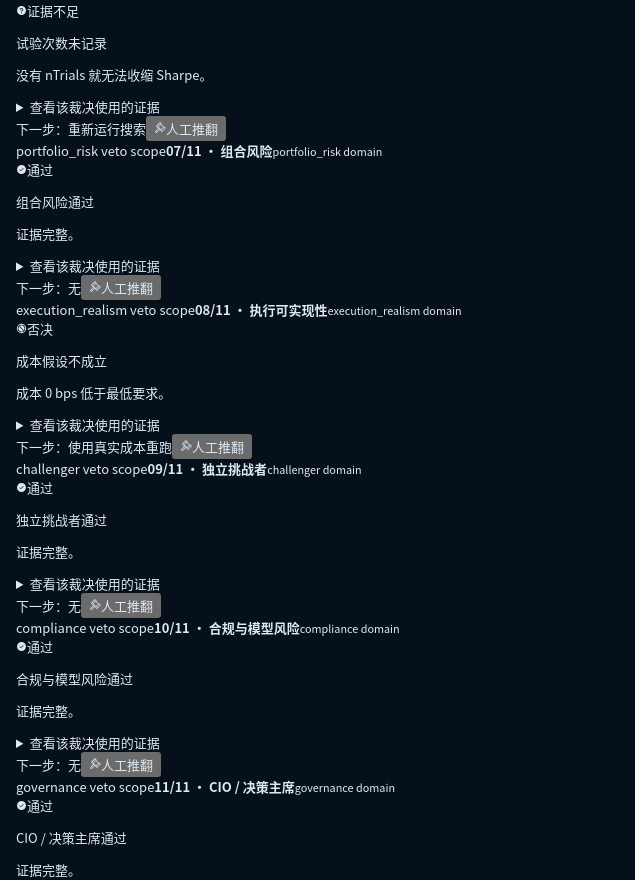
Test: an override cannot be submitted without an author and a substantive reason
This screenshot has width=635, height=880.
(page scrolled)
Expected: the text "成本假设不成立" is shown, top-left (16, 351), bottom-right (107, 370)
Click the button "人工推翻" next to "使用真实成本重跑" at (212, 446), box top-left (172, 434), bottom-right (252, 459)
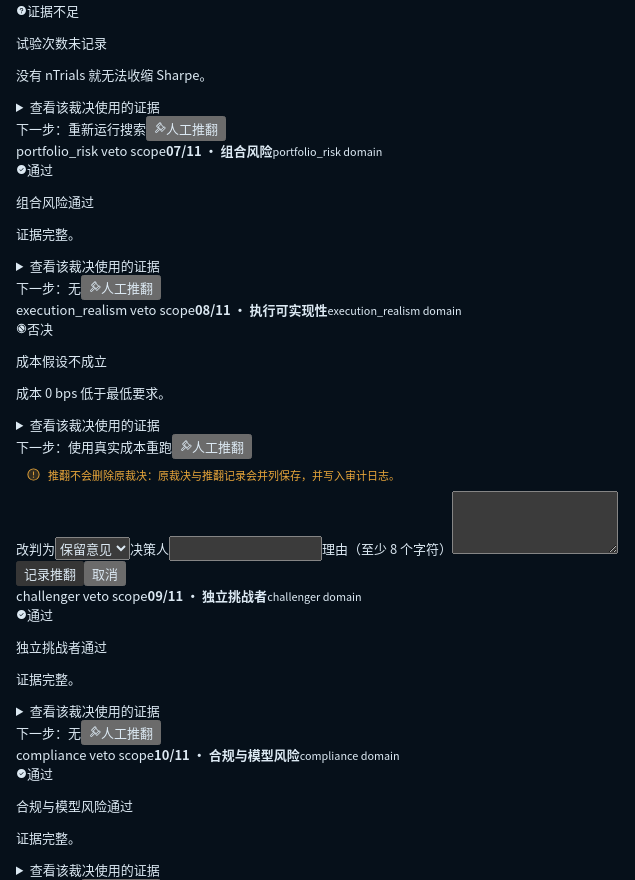
Now the button "记录推翻" is disabled, box top-left (16, 561), bottom-right (84, 586)
Type "研究员甲" into the field labelled "决策人" at (246, 548), box top-left (169, 536), bottom-right (322, 561)
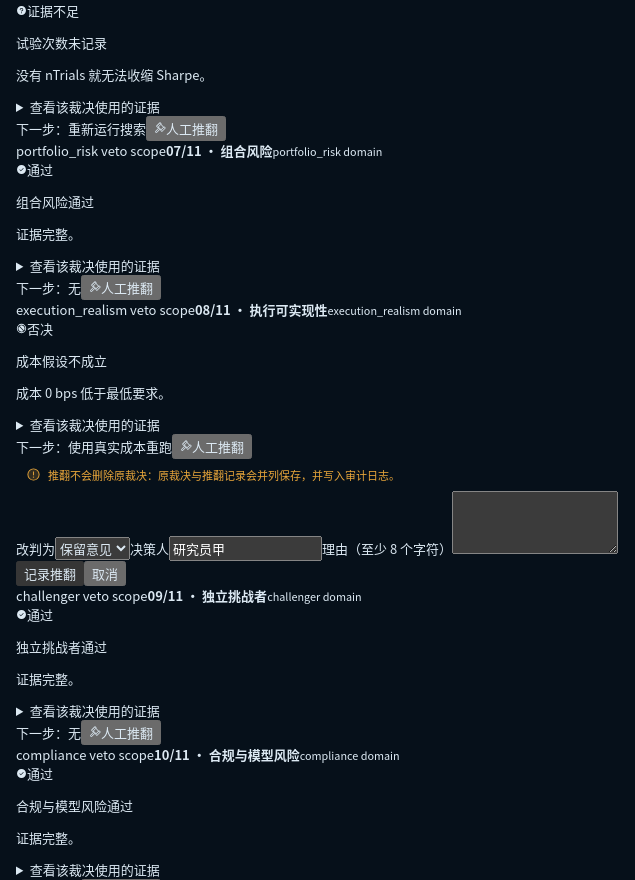
Type "太短" into the text box labelled "理由（至少 8 个字符）" at (535, 522), box top-left (452, 491), bottom-right (618, 554)
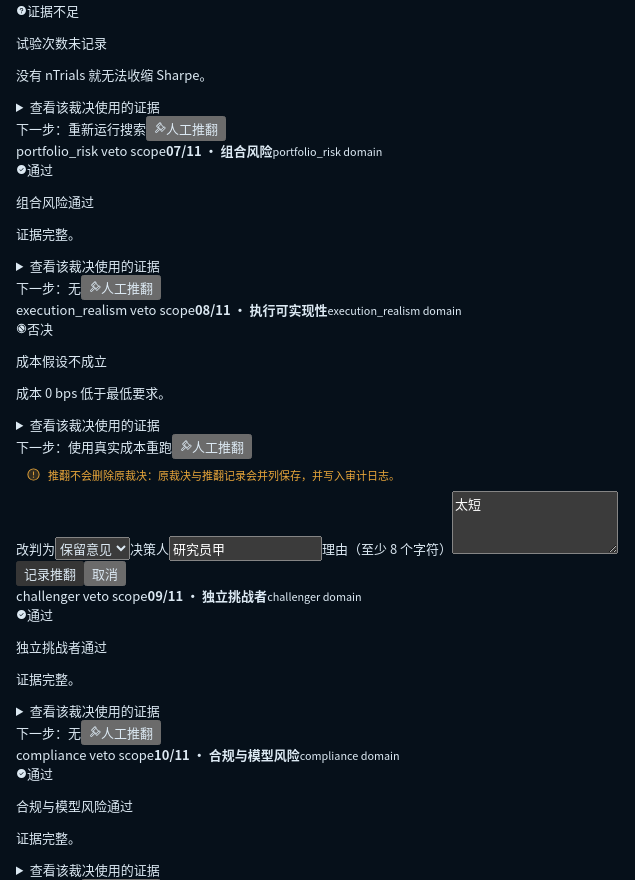
Now the button "记录推翻" is disabled, box top-left (16, 561), bottom-right (84, 586)
Replace the text in the text box labelled "理由（至少 8 个字符）" with "成本将在下游 A 股回测中重新施加，此处只做因子排序。" at (535, 522), box top-left (452, 491), bottom-right (618, 554)
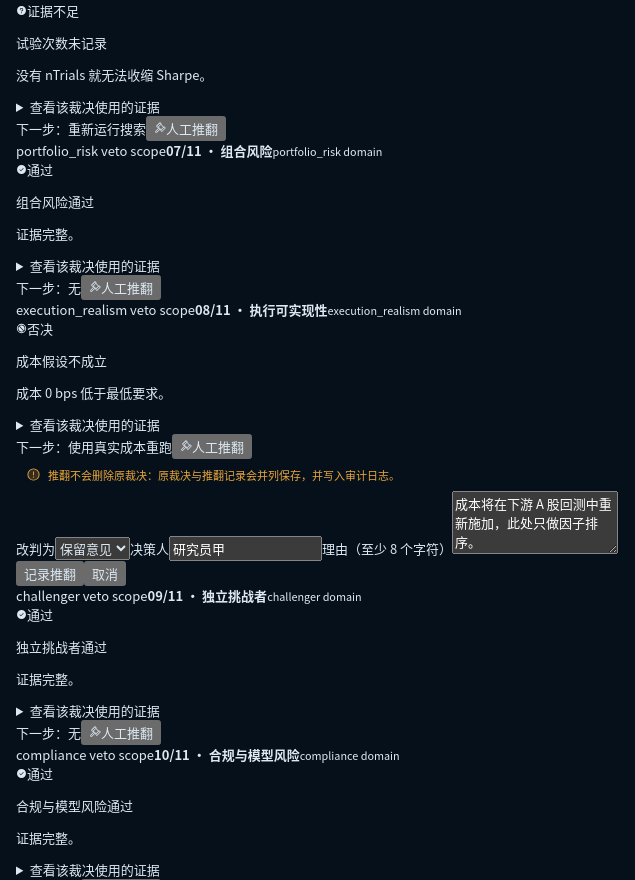
Now the button "记录推翻" is enabled, box top-left (16, 561), bottom-right (84, 586)
